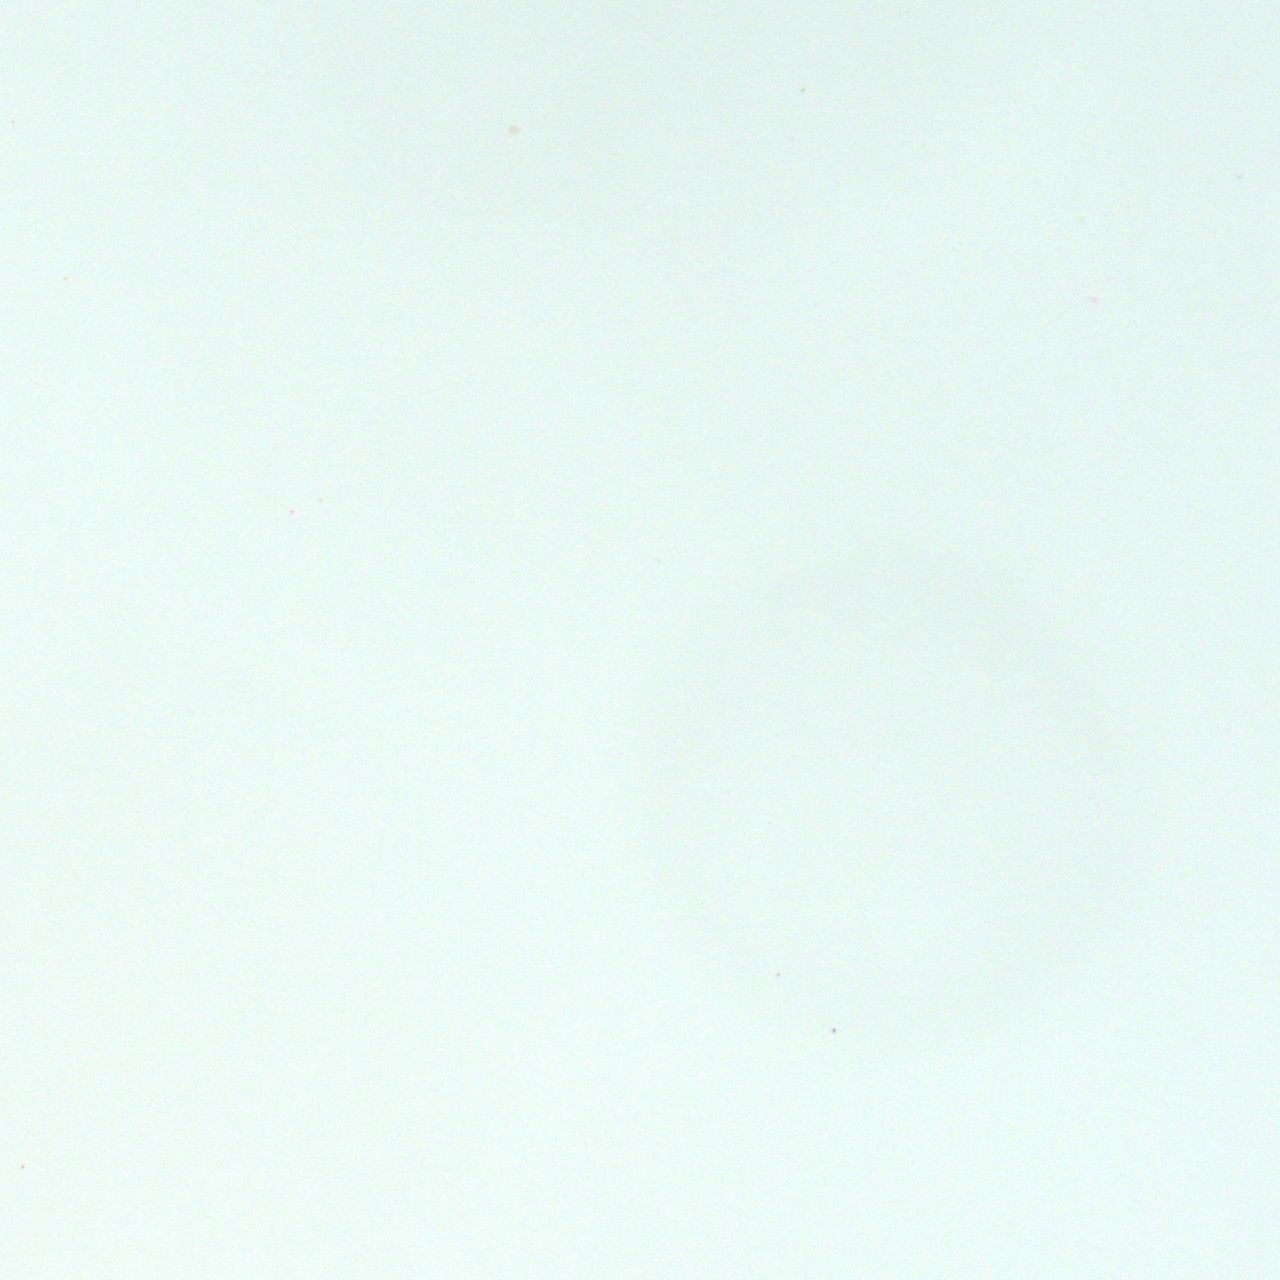dust: (830, 1024, 838, 1033), (772, 971, 781, 975)
